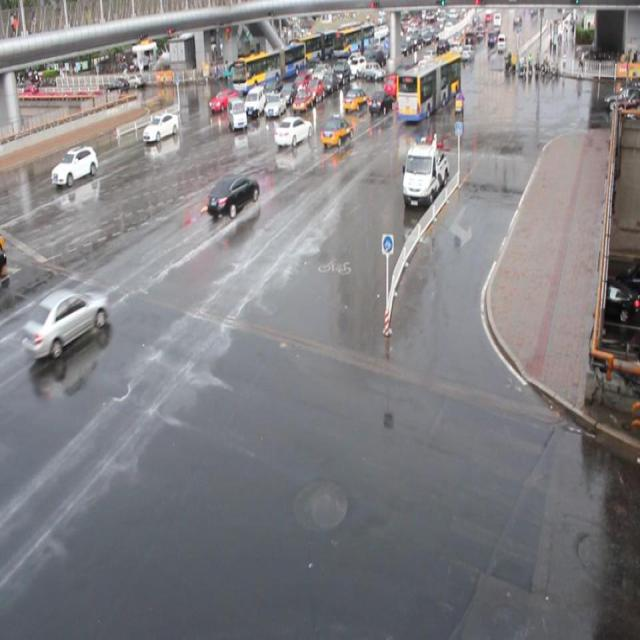bus: (402, 138, 449, 207)
car: (22, 287, 109, 355), (205, 172, 259, 218), (51, 145, 99, 186), (274, 115, 312, 147), (142, 112, 178, 142), (320, 114, 353, 146), (208, 86, 238, 111), (342, 85, 369, 111), (368, 89, 393, 115), (291, 88, 313, 115), (394, 82, 415, 110), (265, 93, 287, 118), (266, 74, 288, 98), (304, 78, 324, 102), (279, 81, 298, 104), (291, 73, 311, 94), (382, 74, 400, 97)
truck: (245, 86, 268, 118), (226, 95, 246, 131)
van: (395, 52, 460, 121)
